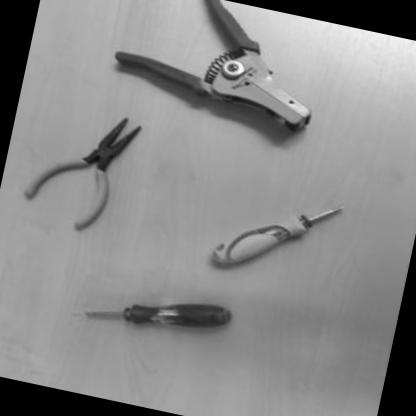Screwdriver: (202, 174, 350, 292), (76, 272, 238, 353)
